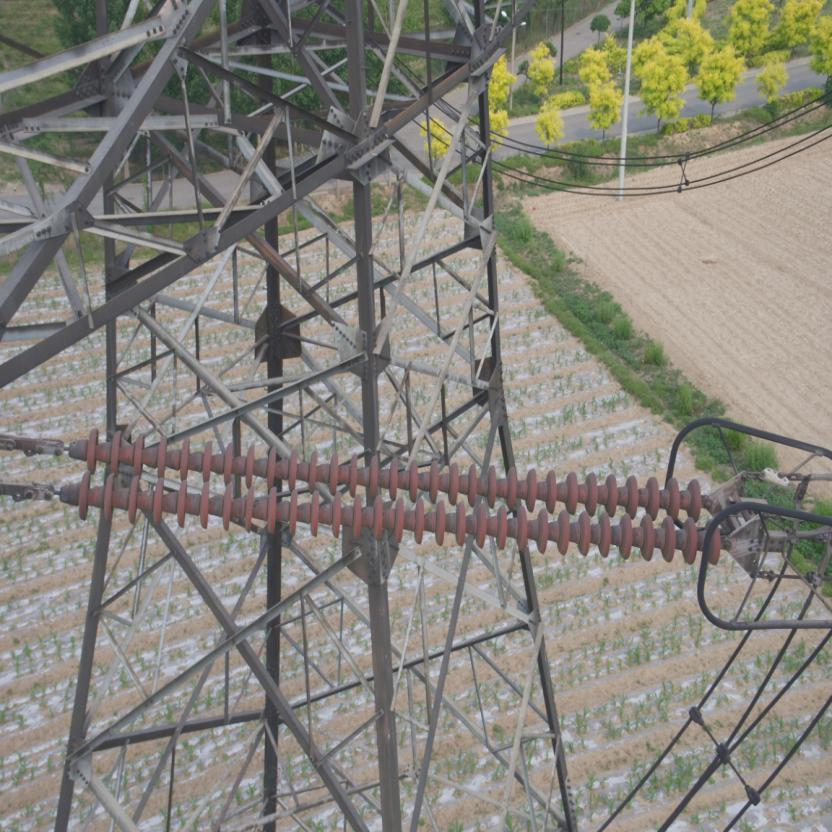insulator: (22, 423, 742, 567)
